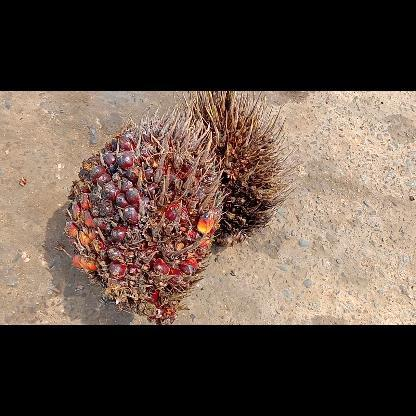Janjang kosong: (173, 91, 299, 247)
TBS masak: (64, 106, 226, 324)
